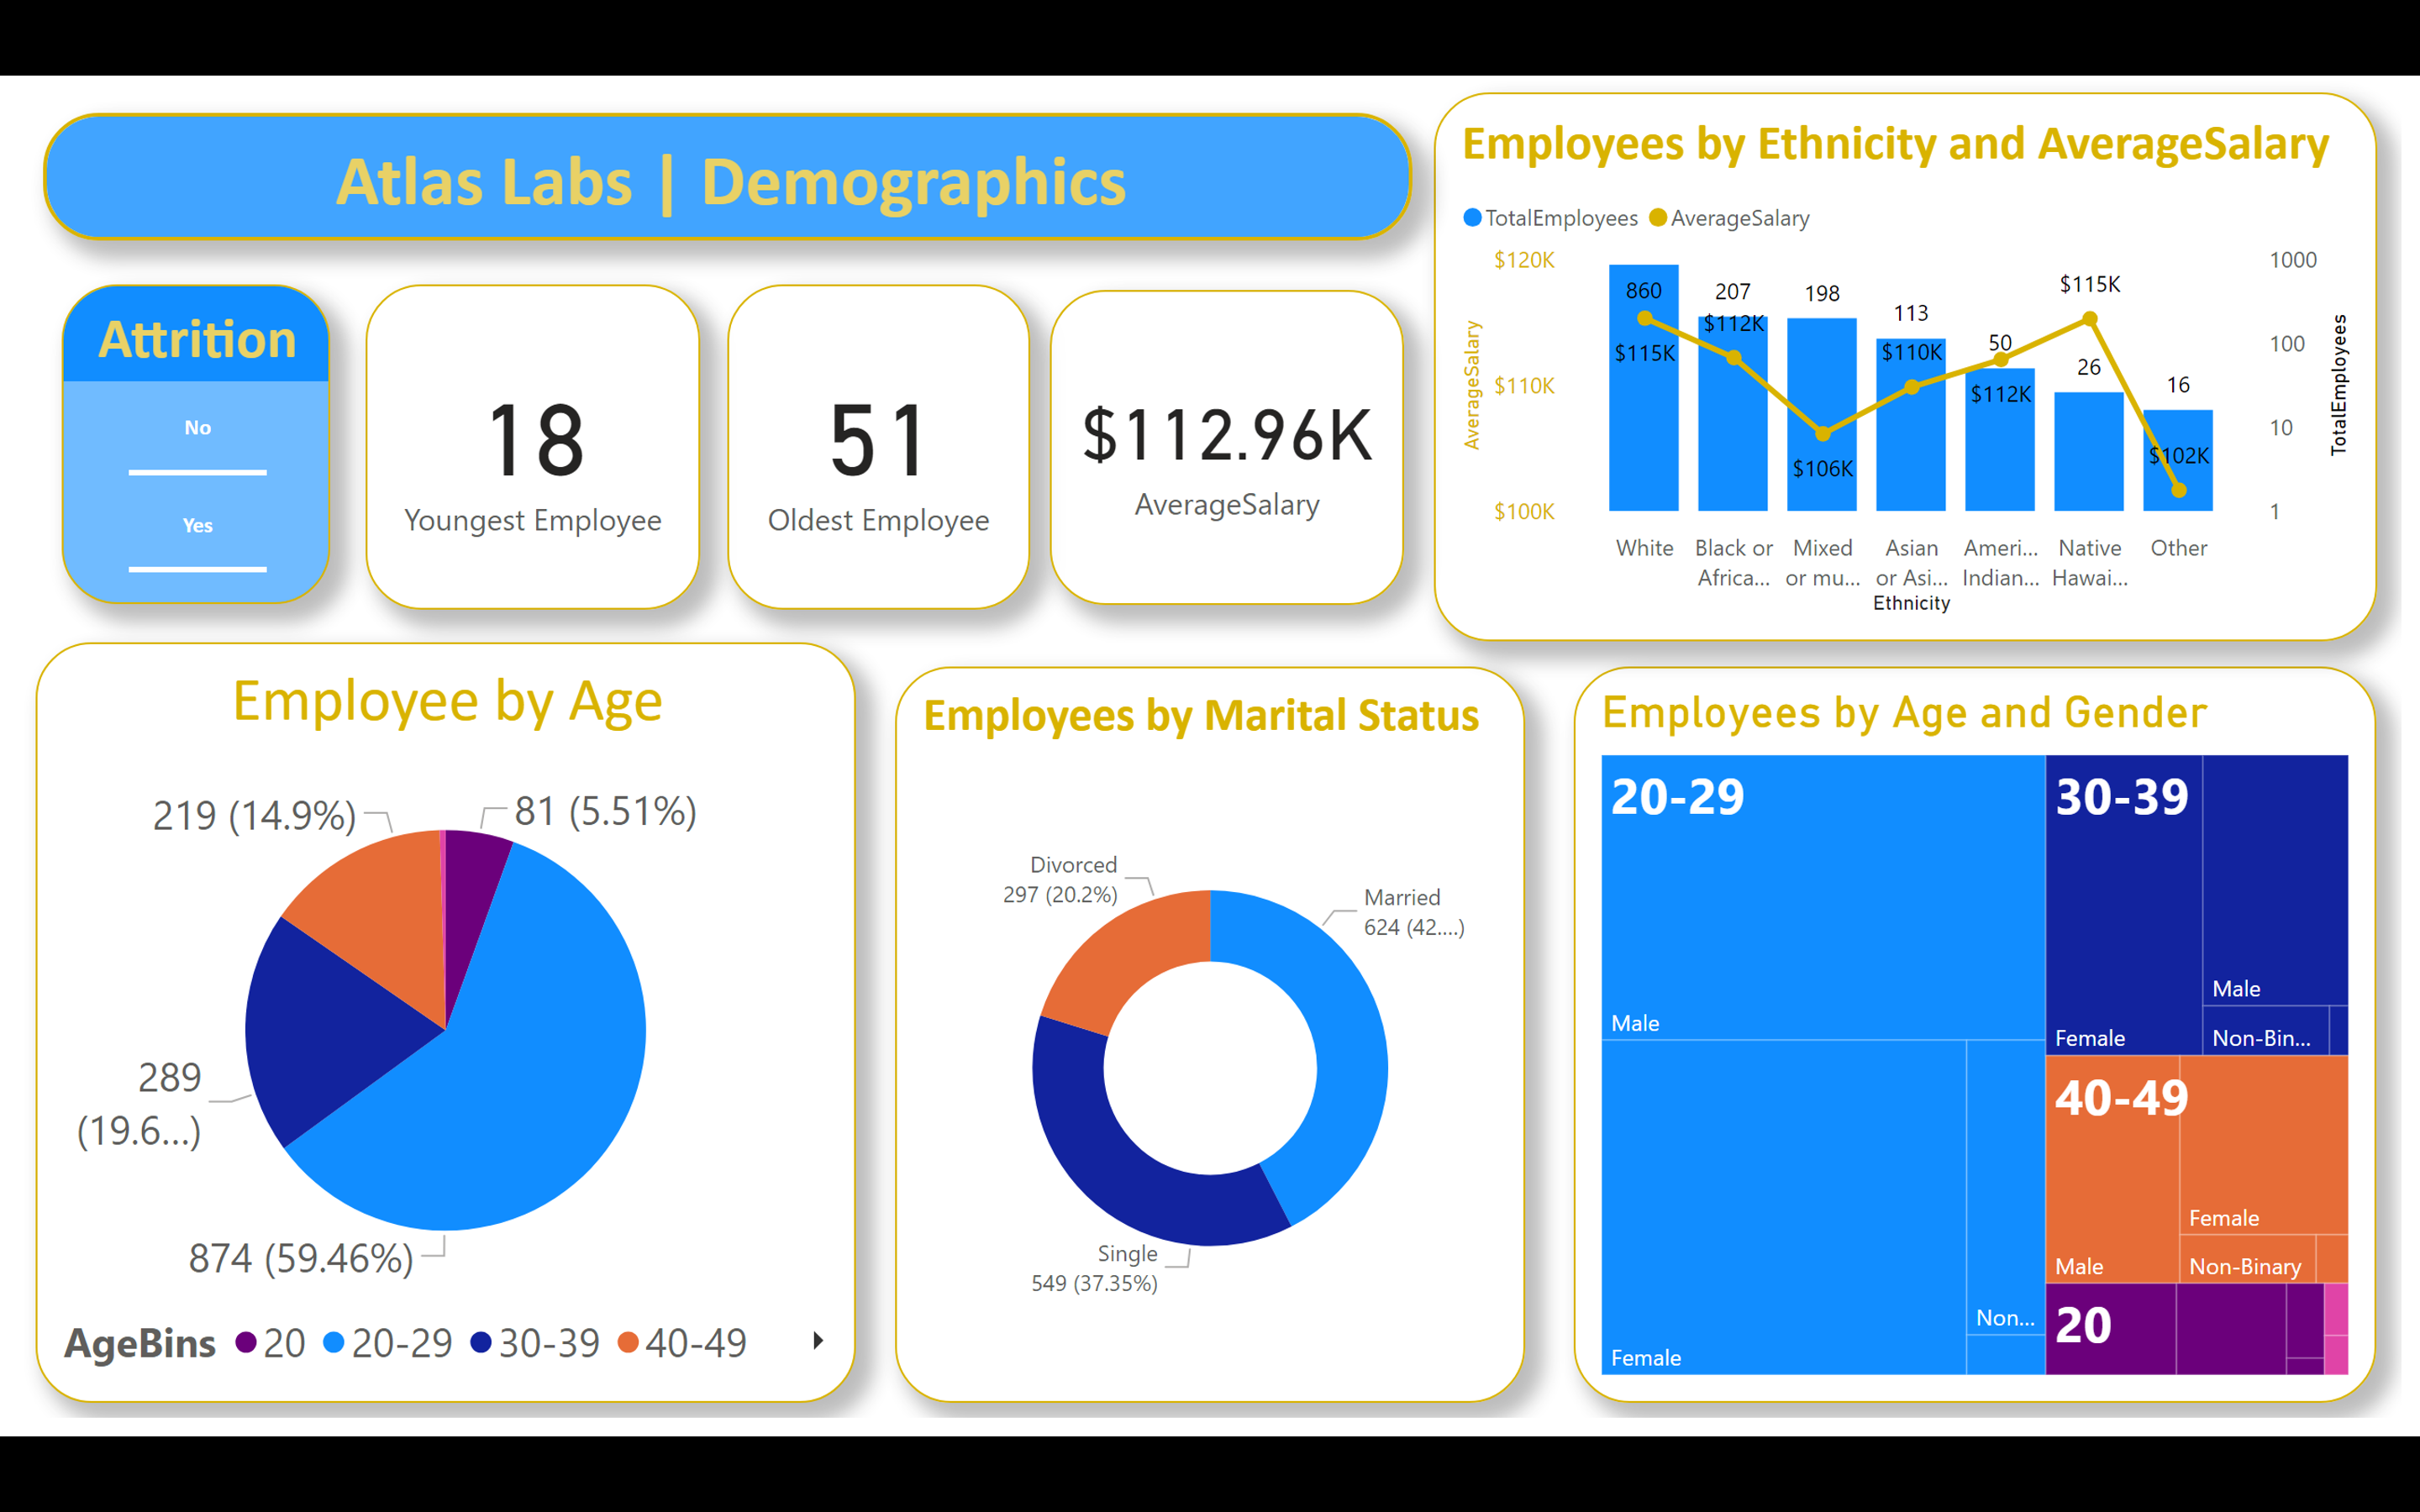

What the dashboard file says about the page in this screenshot:
{"tool":"powerbi","page":{"name":"Demographics","canvas":[1280,720],"ordinal":1},"visuals":[{"type":"card","fields":{"Values":["Employee.Youngest Employee"]},"box":[187.6,112.3,179.7,174.4],"z":0},{"type":"card","fields":{"Values":["Max(Employee.Age)"]},"box":[381.8,112.3,162.5,174.4],"z":1000},{"type":"pieChart","title":"Employee by Age","fields":{"Category":["Employee.AgeBins"],"Y":["_Measures.TotalEmploeeDate"]},"box":[10.6,303.8,439.9,408.2],"z":2000},{"type":"treemap","title":"Employees by Age and Gender","fields":{"Group":["Employee.AgeBins"],"Values":["_Measures.TotalEmployees"],"Details":["Employee.Gender"]},"box":[836.2,317,430.6,395],"z":3000},{"type":"donutChart","title":"Employees by Marital Status","fields":{"Category":["Employee.MaritalStatus"],"Y":["_Measures.TotalEmployees"]},"box":[471.6,317,338.2,395],"z":5000},{"type":"card","fields":{"Values":["_Measures.AverageSalary"]},"box":[554.8,114.9,190.2,169.1],"z":6000},{"type":"lineClusteredColumnComboChart","title":"Employees by  Ethnicity and AverageSalary","fields":{"Y":["_Measures.TotalEmployees"],"Category":["Employee.Ethnicity"],"Y2":["_Measures.AverageSalary"]},"box":[760.9,9.2,505.9,294.6],"z":7000},{"type":"textbox","title":"Atlas Labs | Demographics","box":[14.5,19.8,734.5,68.7],"z":7002},{"type":"slicer","title":"Attrition","fields":{"Values":["Employee.Attrition"]},"box":[25.1,112.3,144,171.7],"z":7003}]}

Visuals, with their boxes on the page's 1280x720 design canvas (x1, y1, x2, y2). These are canvas units, not pixel positions in the 2420x1512 screenshot, which may show the page scaled, cropped or inside an application window:
card - Employee.Youngest Employee: box(188, 112, 367, 287)
card - Max(Employee.Age): box(382, 112, 544, 287)
"Employee by Age" pieChart: box(11, 304, 450, 712)
"Employees by Age and Gender" treemap: box(836, 317, 1267, 712)
"Employees by Marital Status" donutChart: box(472, 317, 810, 712)
card - _Measures.AverageSalary: box(555, 115, 745, 284)
"Employees by  Ethnicity and AverageSalary" lineClusteredColumnComboChart: box(761, 9, 1267, 304)
"Atlas Labs | Demographics" textbox: box(14, 20, 749, 88)
"Attrition" slicer: box(25, 112, 169, 284)
